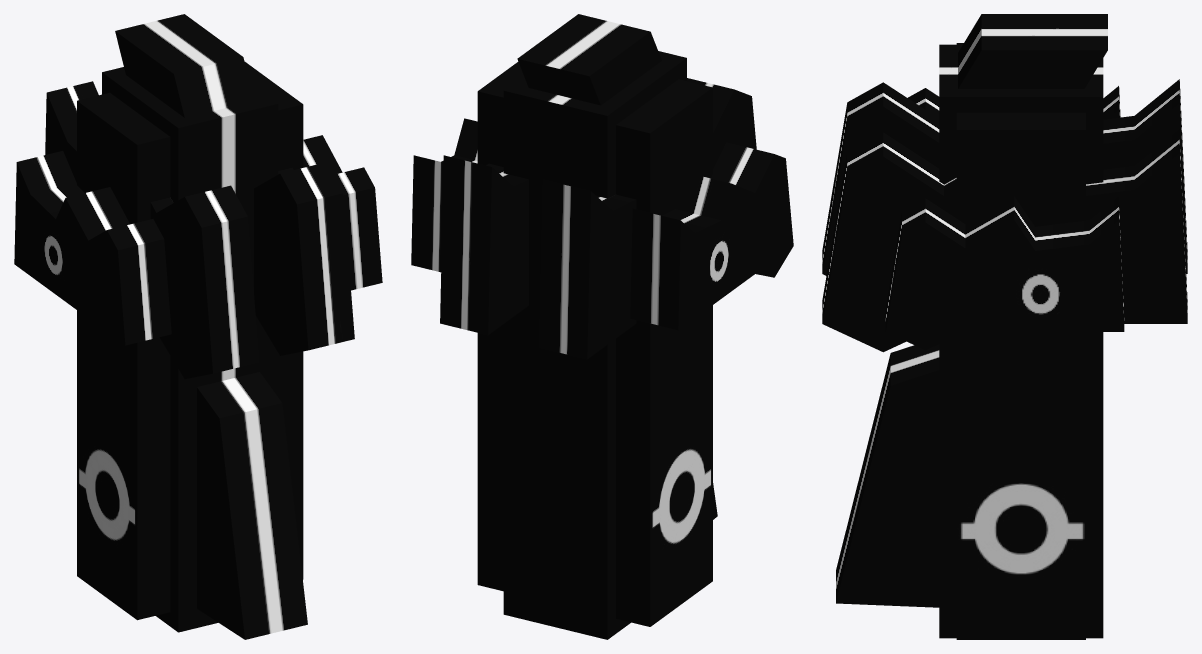
The model's file is Obstakel4.fbx.
3 renders of one model, left to right at view 1: azimuth 30°, elevation 25°; view 2: azimuth 150°, elevation 25°; view 3: azimuth 270°, elevation 25°, orthographic. The views are drawn at different scales.
Parts seen in each view (by area): view 1: Cube; view 2: Cube; view 3: Cube.
Part boxes in pixels (x1,y1,x2,y2): Cube: (14,14,382,639); Cube: (411,14,793,639); Cube: (822,14,1187,639).
Bounding box in the file's own units: 388 × 780 × 445.
1 material, 1 textured.
